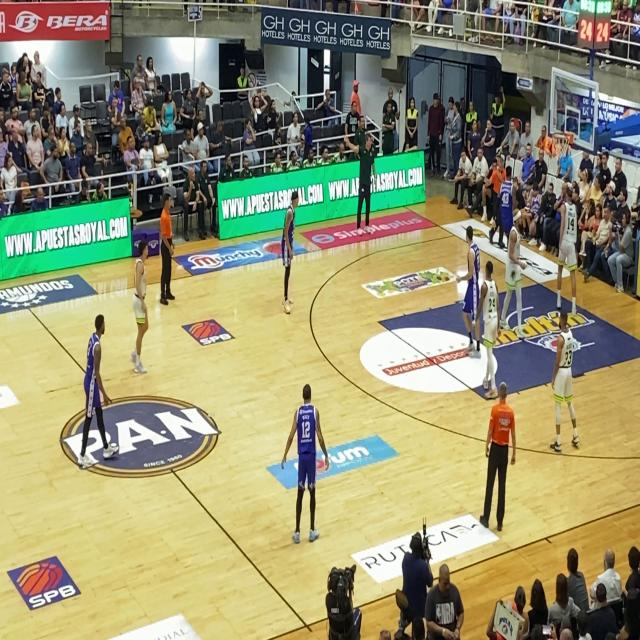referee: (478, 374, 524, 533), (155, 185, 182, 298)
team1: (545, 302, 581, 452), (498, 194, 526, 332)
team2: (277, 377, 325, 546)
ubasket: (552, 131, 572, 163)
